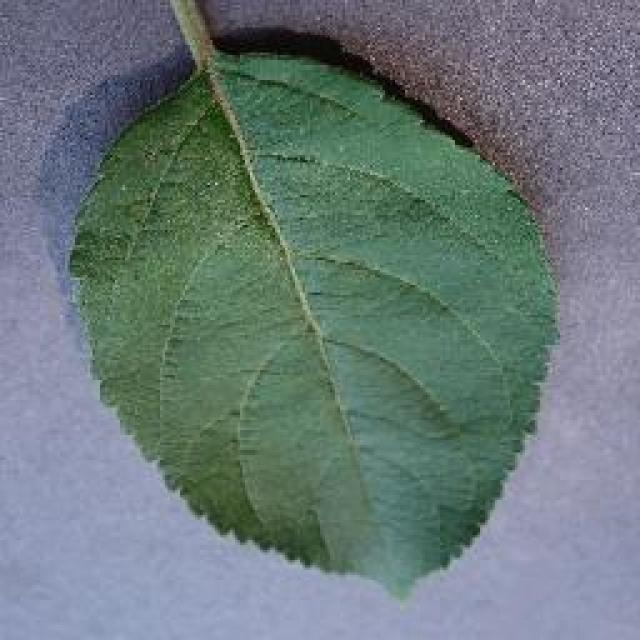apple healthy: (60, 5, 562, 600)
